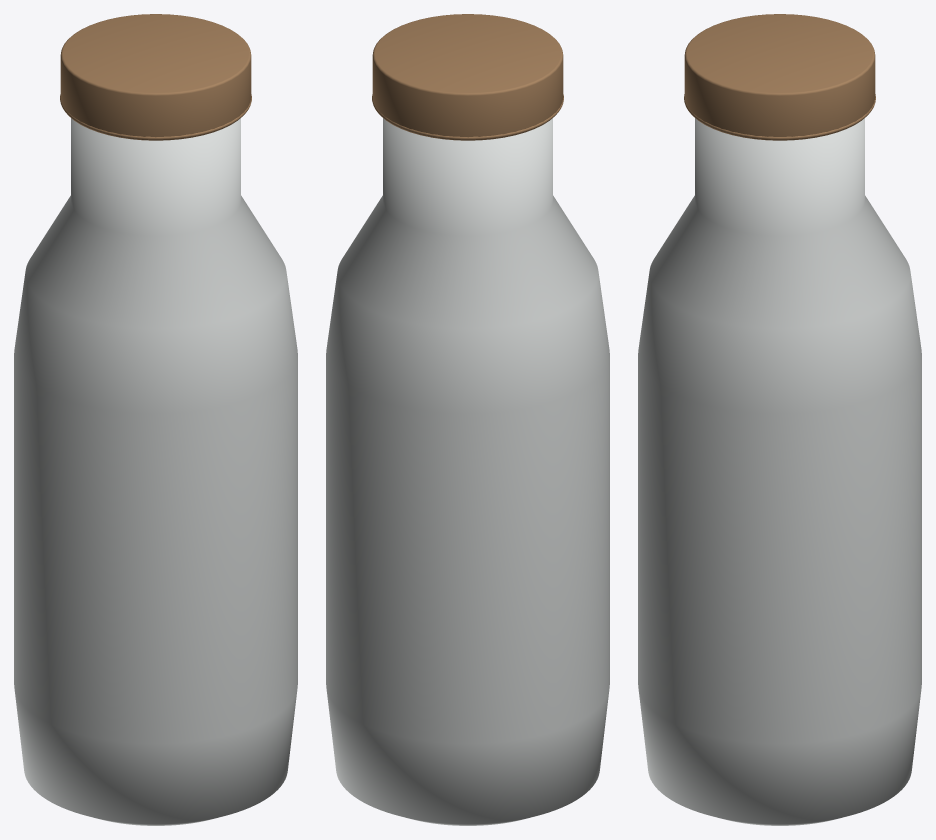
Rendered from fridge_contents__cork_glass_carafe.glb.
The picture shows the model from 3 angles, left to right: view 1: azimuth 30°, elevation 25°; view 2: azimuth 150°, elevation 25°; view 3: azimuth 270°, elevation 25°; orthographic projection.
Visible parts, largest first — view 1: hollow container, removable closure, closure lower bead; view 2: hollow container, removable closure, closure lower bead; view 3: hollow container, removable closure, closure lower bead.
Boxes of the visible parts, x1=… form: hollow container: x1=14, y1=118, x2=297, y2=825; removable closure: x1=60, y1=14, x2=251, y2=140; closure lower bead: x1=60, y1=94, x2=251, y2=139; hollow container: x1=326, y1=118, x2=609, y2=825; removable closure: x1=372, y1=14, x2=563, y2=140; closure lower bead: x1=372, y1=94, x2=563, y2=139; hollow container: x1=638, y1=118, x2=921, y2=825; removable closure: x1=684, y1=14, x2=875, y2=140; closure lower bead: x1=684, y1=94, x2=875, y2=139.
Size of the model in its own units: 0.086 by 0.245 by 0.086.
